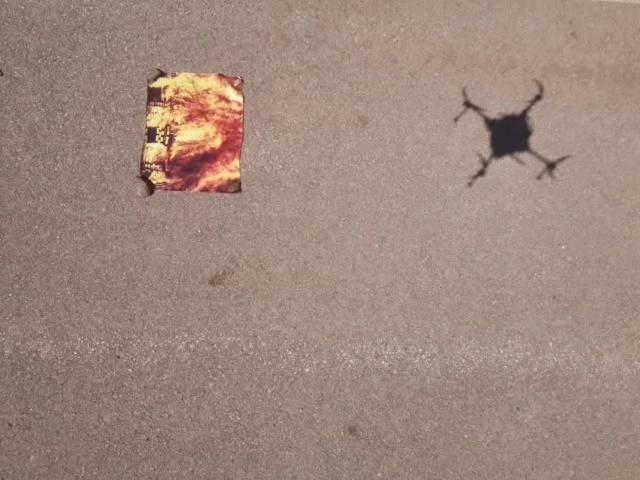fire-poster: (137, 67, 247, 197)
